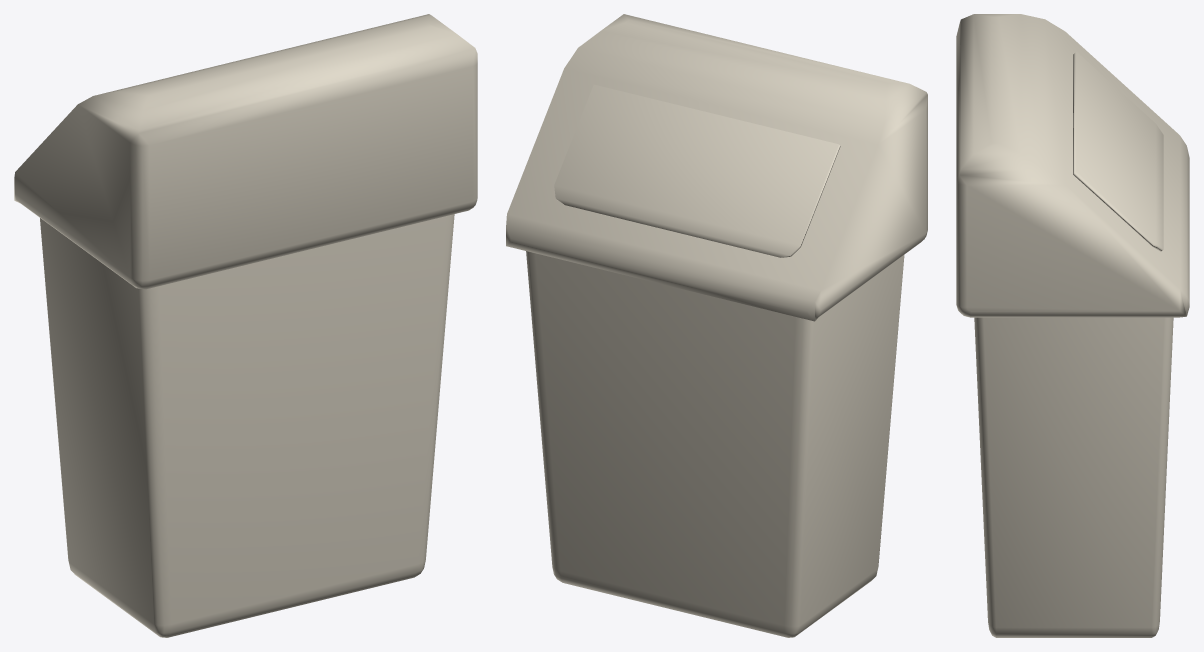
File: smietnikv2.fbx
The picture shows the model from 3 angles, left to right: view 1: azimuth 30°, elevation 25°; view 2: azimuth 150°, elevation 25°; view 3: azimuth 270°, elevation 25°; orthographic projection. The views are drawn at different scales.
Parts seen in each view (by area): view 1: Kostka.002; view 2: Kostka.002; view 3: Kostka.002.
Boxes of the visible parts, bbox=[...] form: Kostka.002: bbox=[14, 14, 477, 637]; Kostka.002: bbox=[506, 14, 927, 637]; Kostka.002: bbox=[956, 14, 1189, 637].
Bounding box in the file's own units: 360 × 549 × 232.
